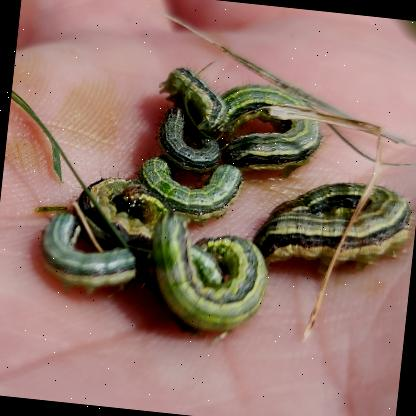Fall Armyworm Larvae: (56, 162, 237, 292), (241, 164, 416, 287), (26, 172, 184, 306), (138, 205, 278, 342), (204, 72, 336, 183), (124, 148, 252, 232), (146, 99, 230, 182), (150, 60, 234, 142)
